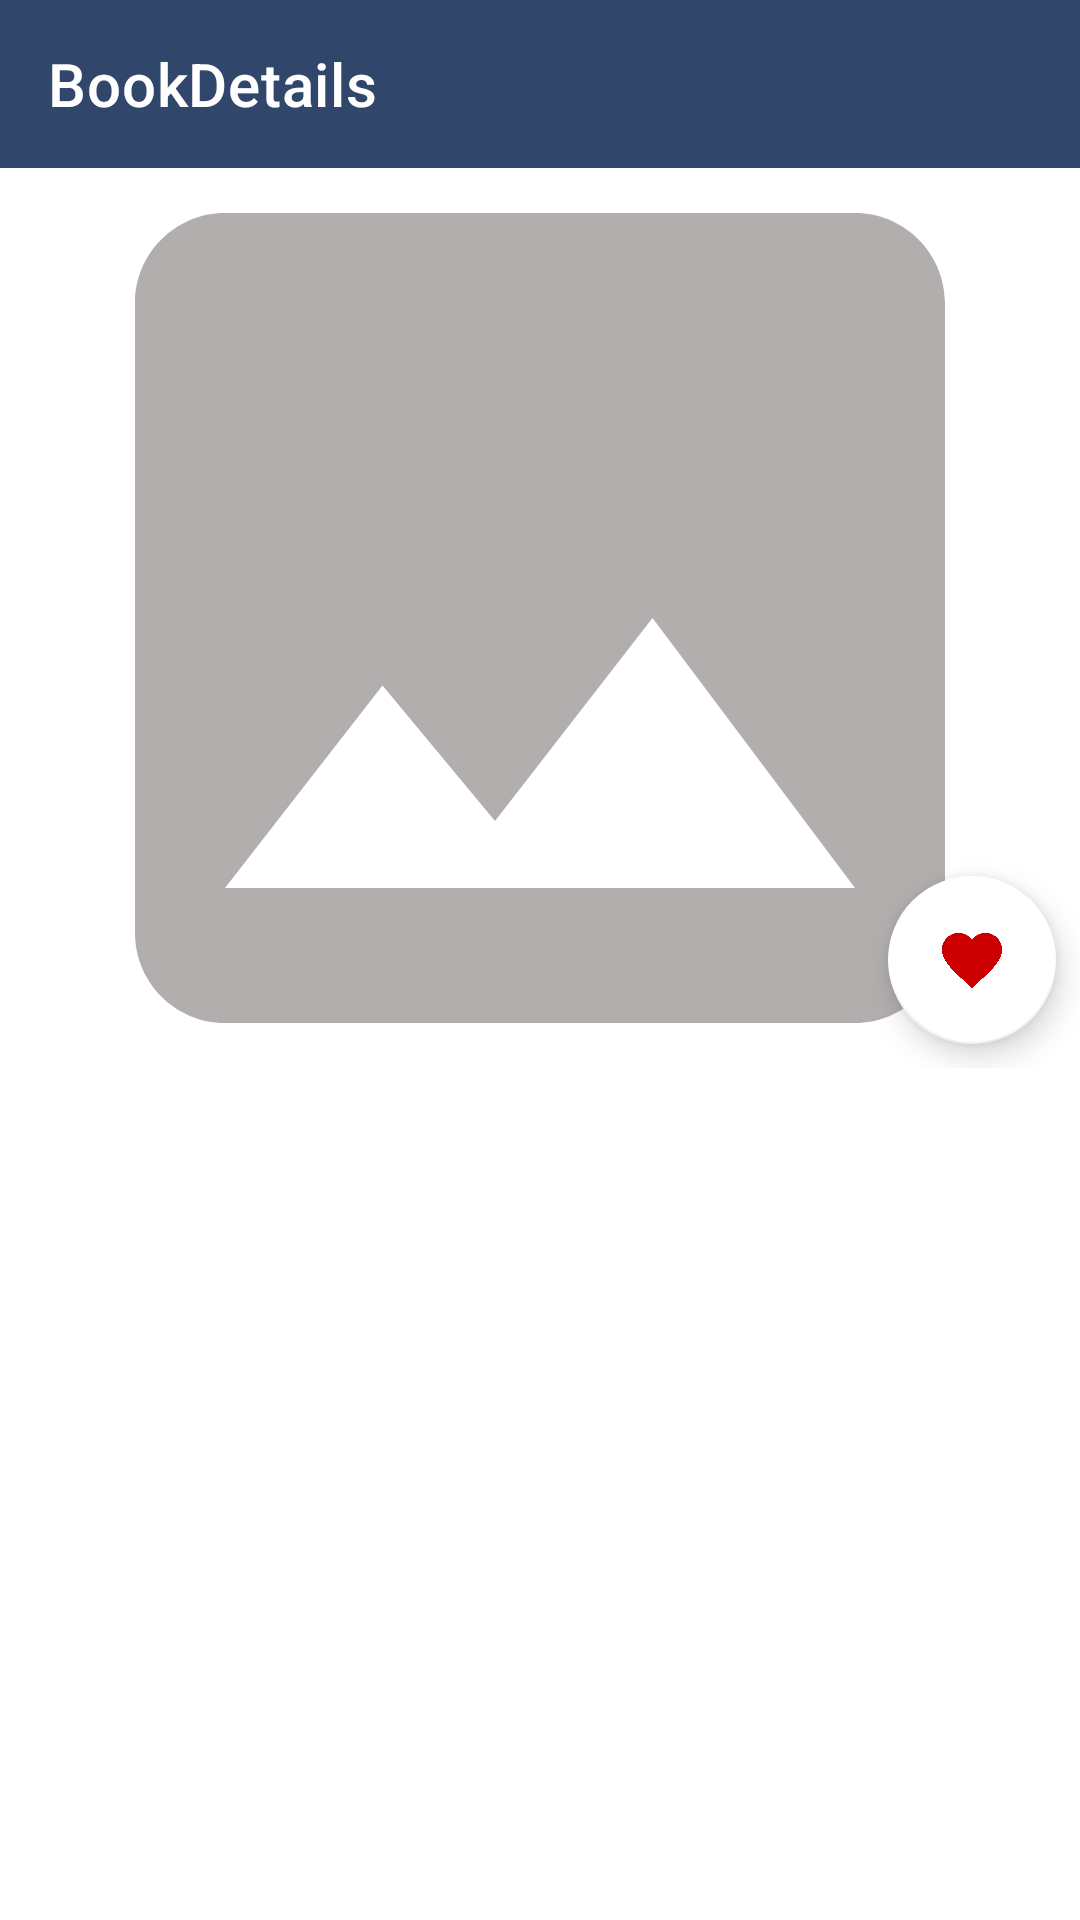

Icons on this 1080x1920 Android screen, each with the point to tap as (x,y):
favorite: (972,960)
